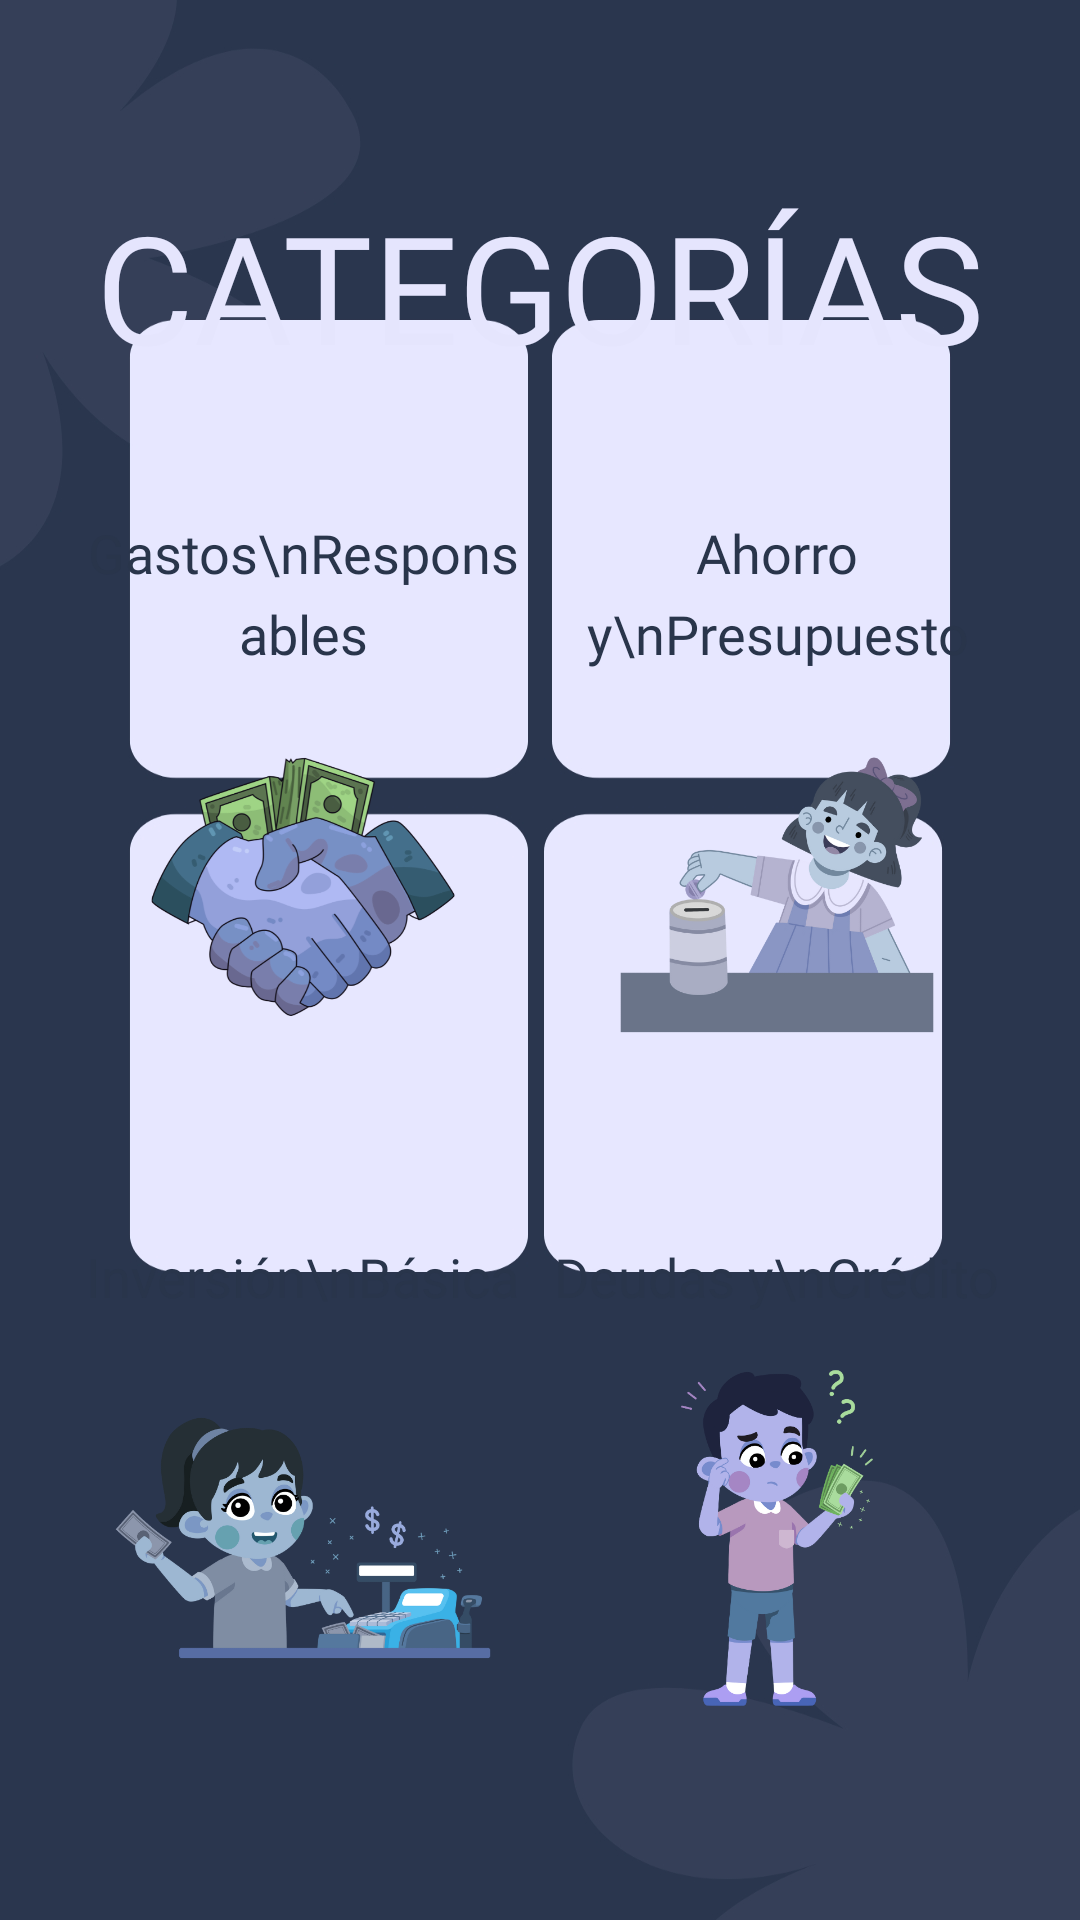

Icon bounding boxes for this 1080px x 1920px phone screenshot, format bbox=(x1, y1, x2, y2):
deudas credito: bbox=(681, 1370, 873, 1706)
